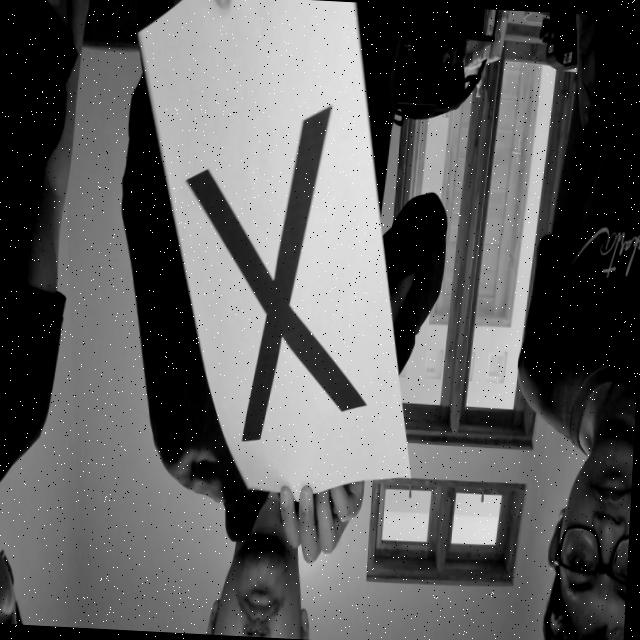x: (154, 84, 392, 464)
